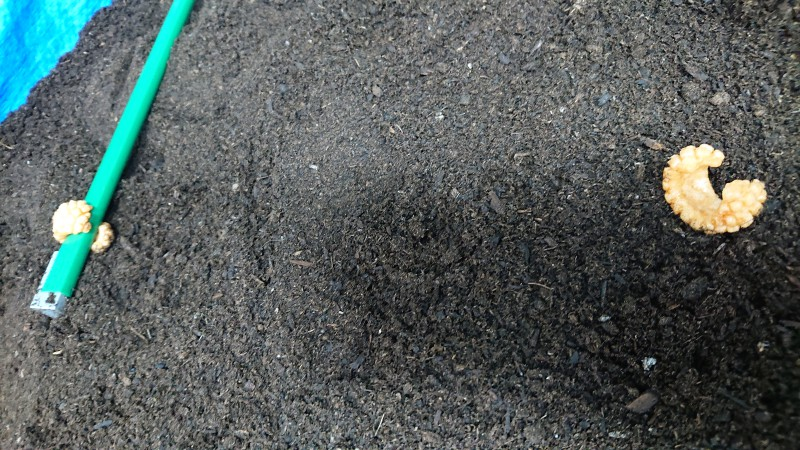eggs: (658, 140, 770, 239), (45, 197, 117, 255)
